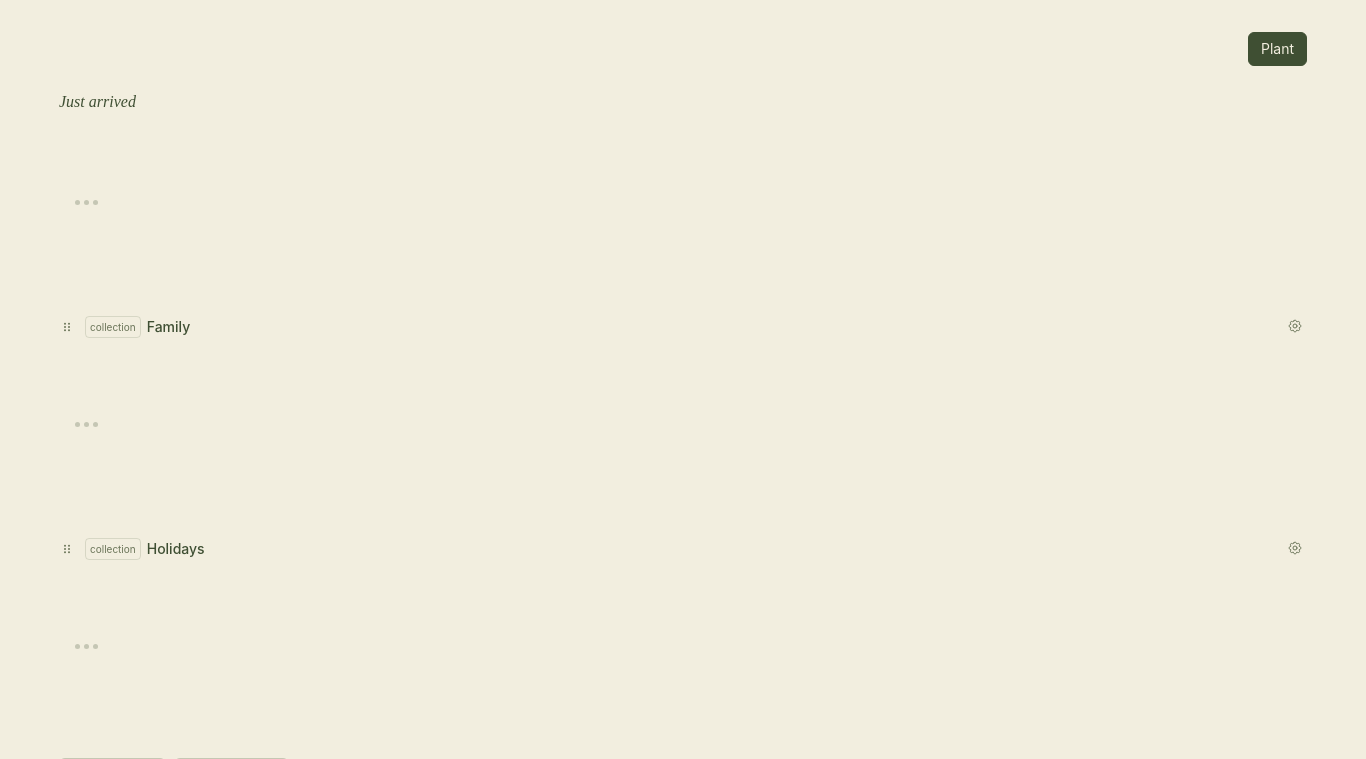
Test: GardenPage › gear Delete shows confirm dialog
The image size is (1366, 759).
Click the button titled "Plot options" in the row of "Family": click(1295, 326) [1283,314,1307,338]
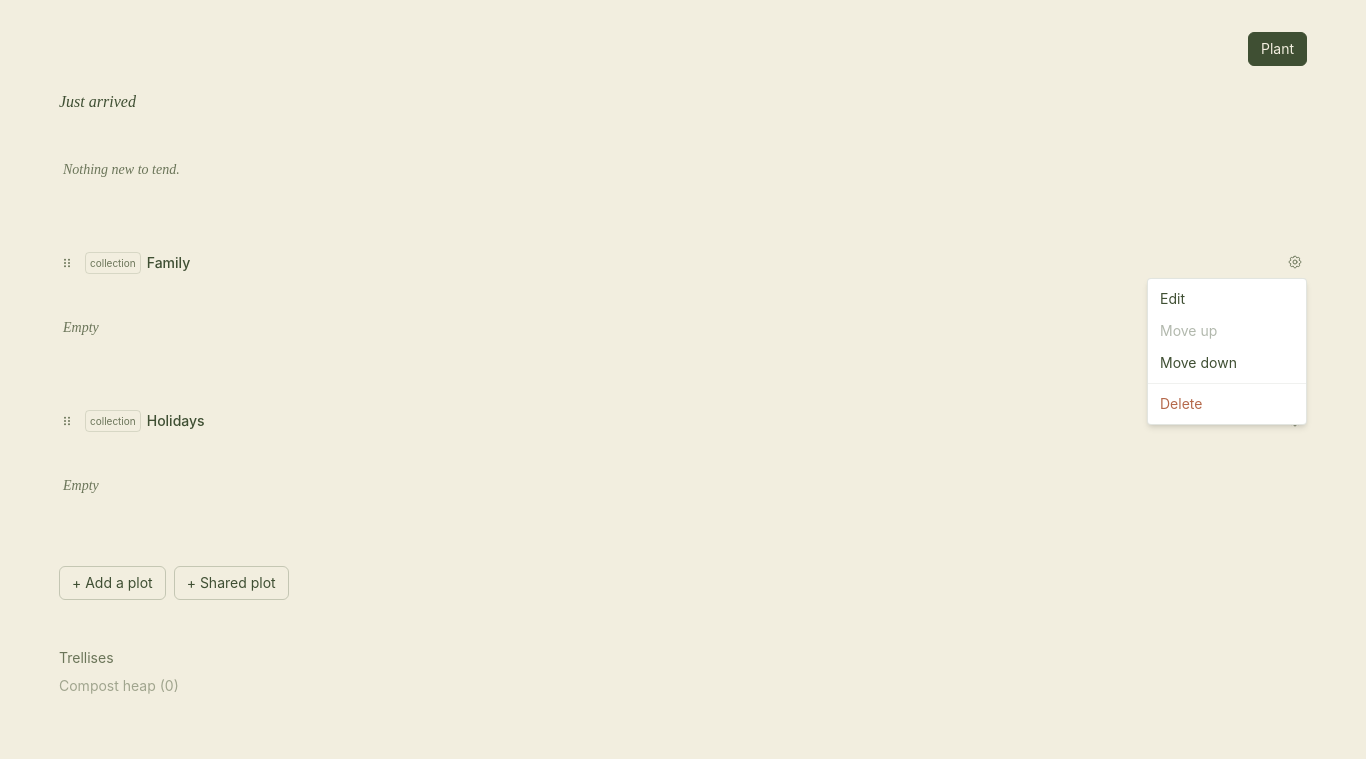
Click the button "Delete": click(1227, 404) [1148,388,1306,420]
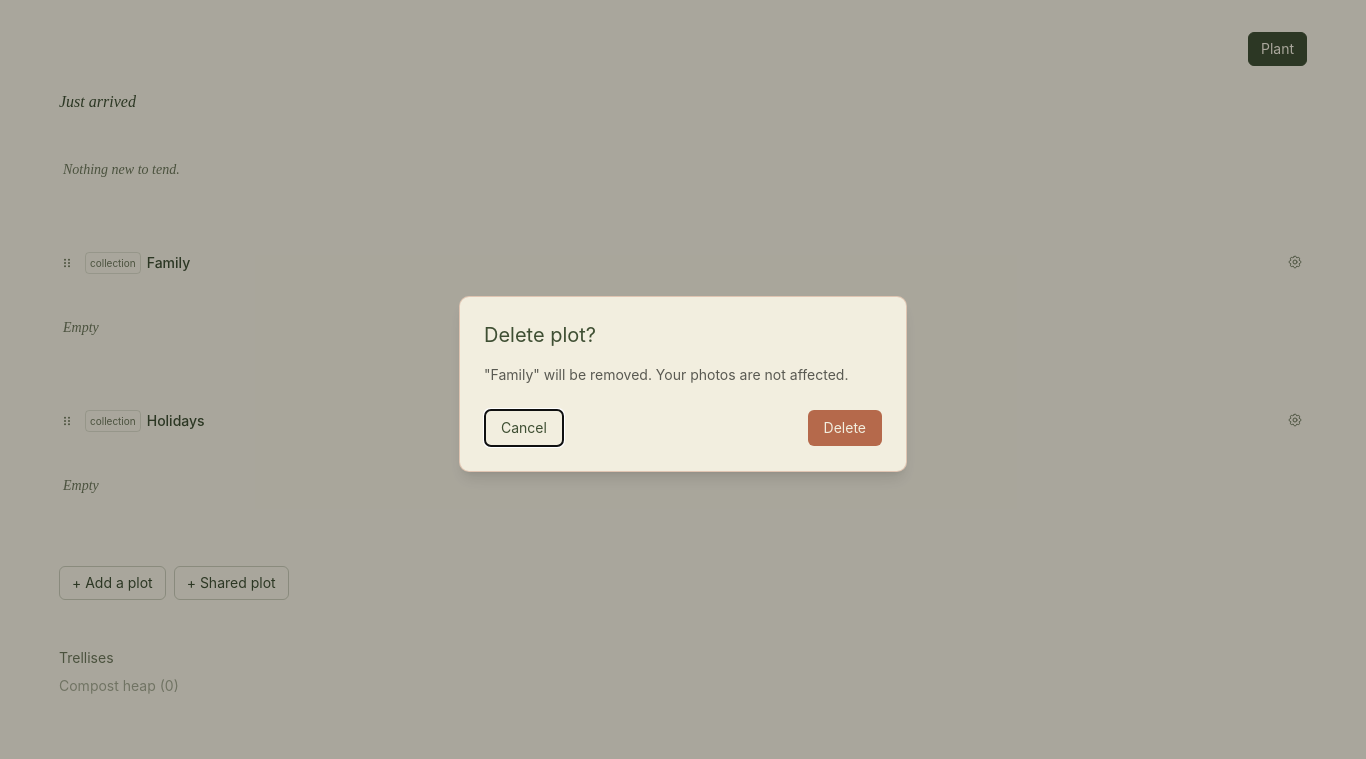
Check: the text "Delete plot?" is shown, box [484,323,596,347]
